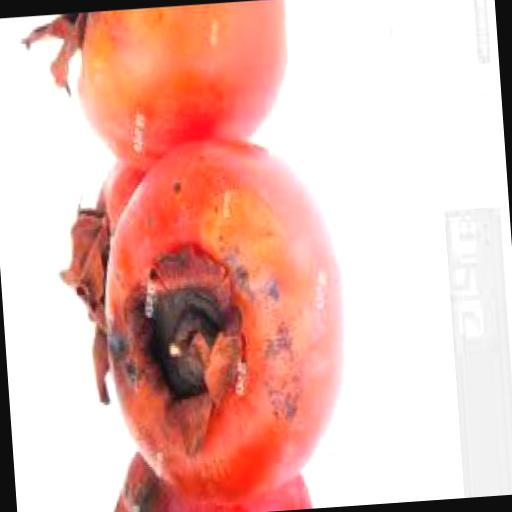biodegradable: (92, 124, 354, 510), (13, 0, 294, 168), (50, 152, 162, 406), (104, 436, 311, 512)
